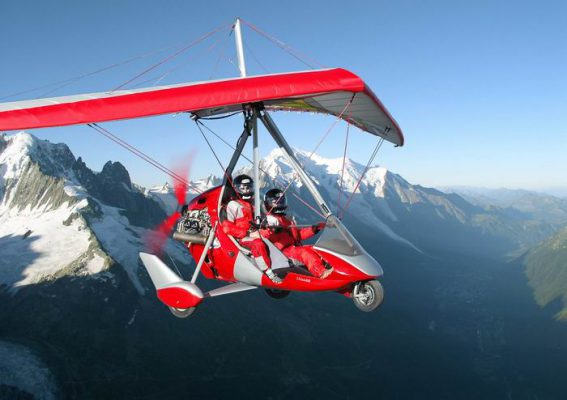Aeronef_de_loisir: (1, 15, 408, 325)
